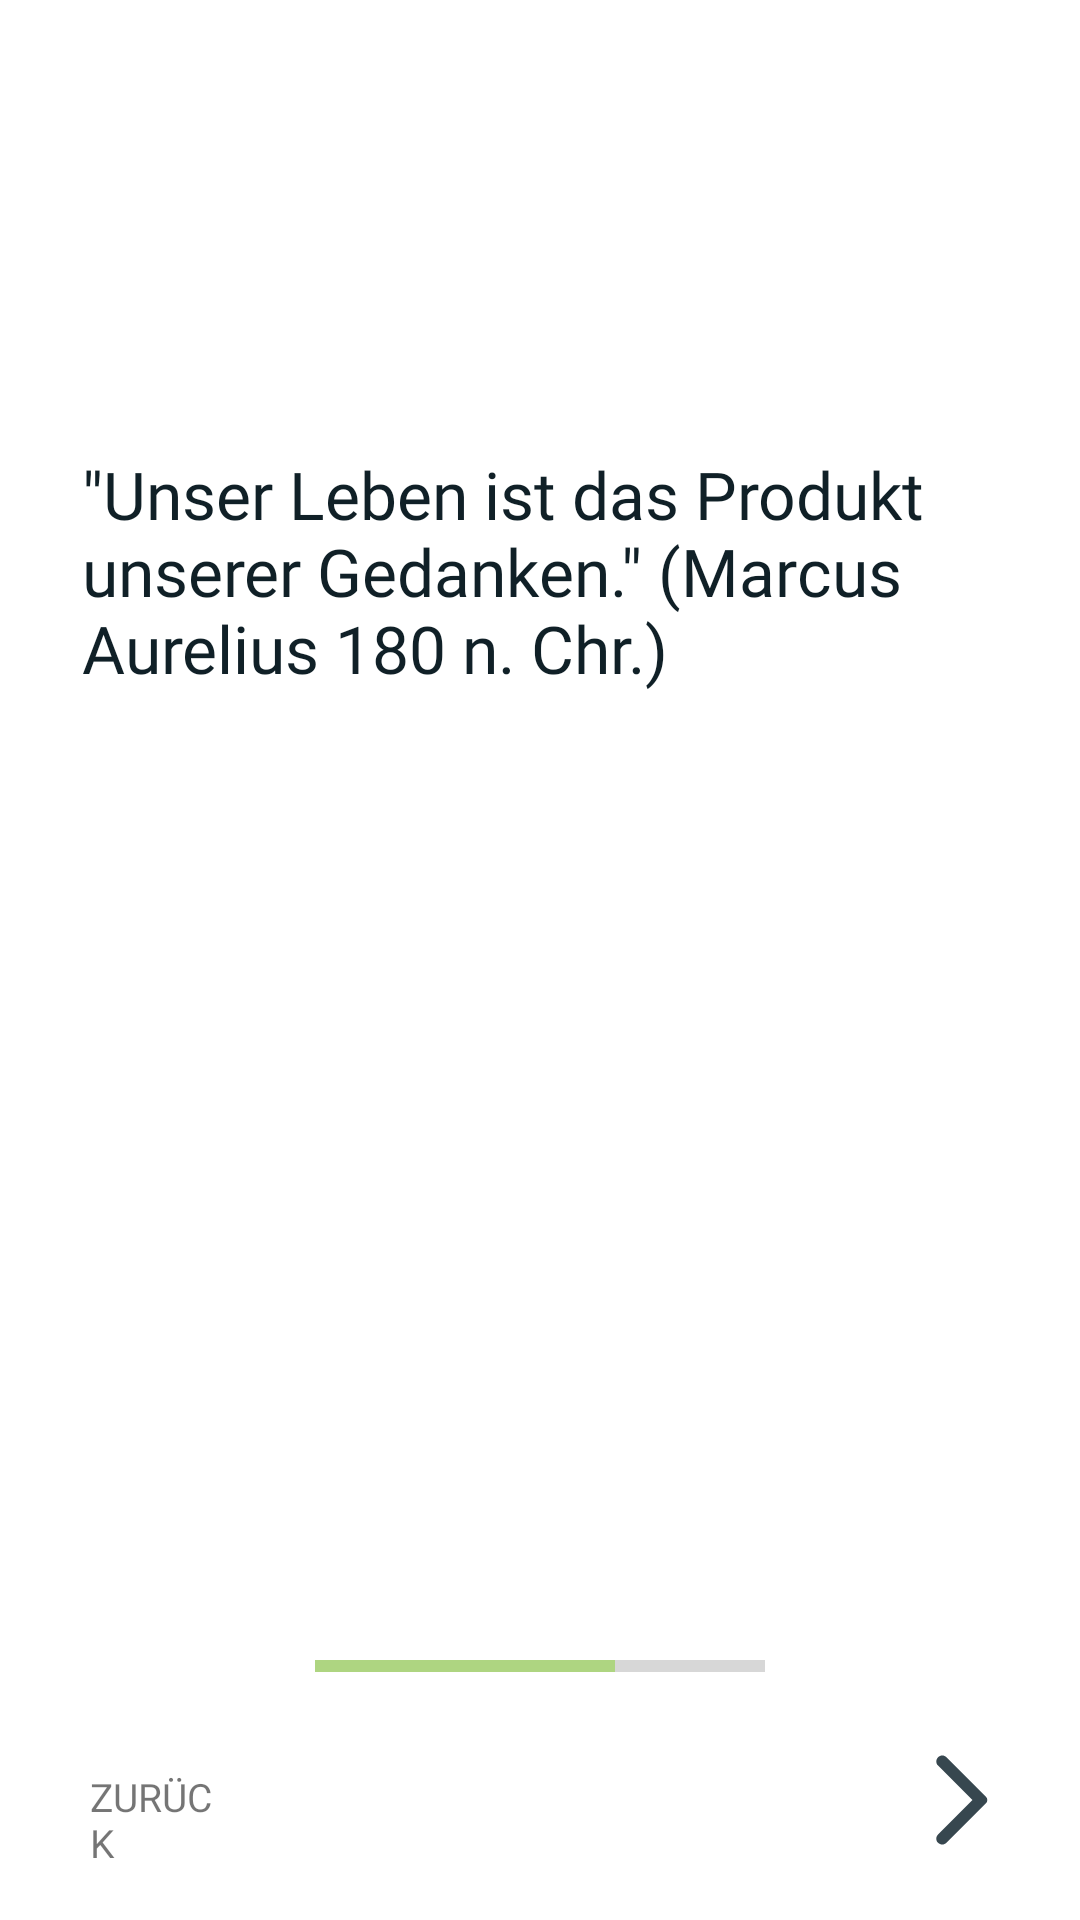

Icon bounding boxes for this 1080*1920 phone screenshot, format box=[x1, y1, x2, y2]:
weiter: box=[936, 1755, 988, 1845]
